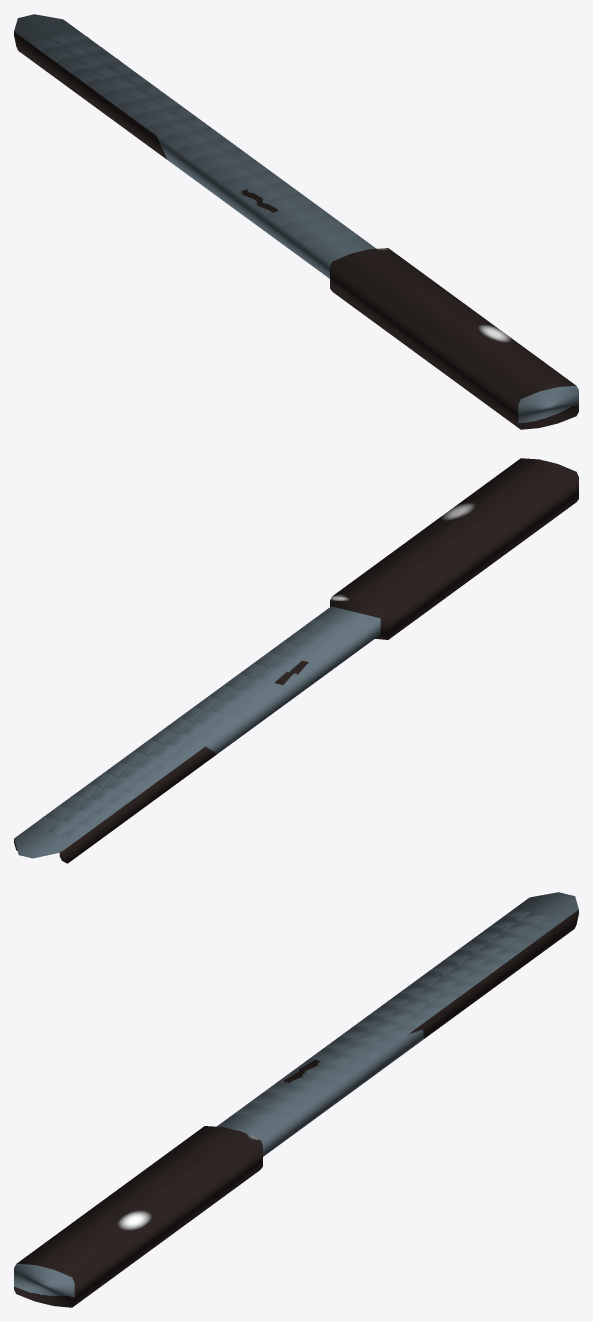
File: Prop masak_Grater.fbx
3 views of the same model, one above another, from view 1: azimuth 30°, elevation 25°; view 2: azimuth 150°, elevation 25°; view 3: azimuth 330°, elevation 25° (orthographic).
Visible parts, largest first — view 1: Gratter; view 2: Gratter; view 3: Gratter.
Boxes of the visible parts, x1,y1,x2,y2 form: Gratter: (14,14,578,429); Gratter: (14,458,578,863); Gratter: (14,892,578,1307).
Bounding box in the file's own units: 3.17 × 1.83 × 47.47.
